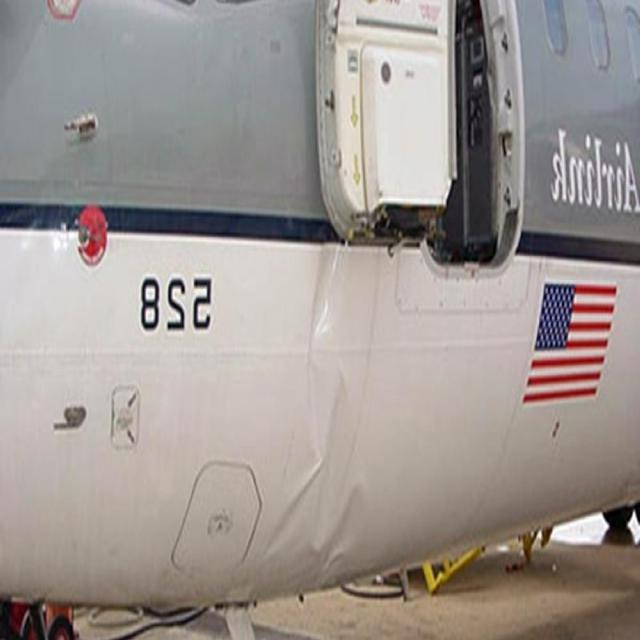dent: (263, 247, 370, 593)
